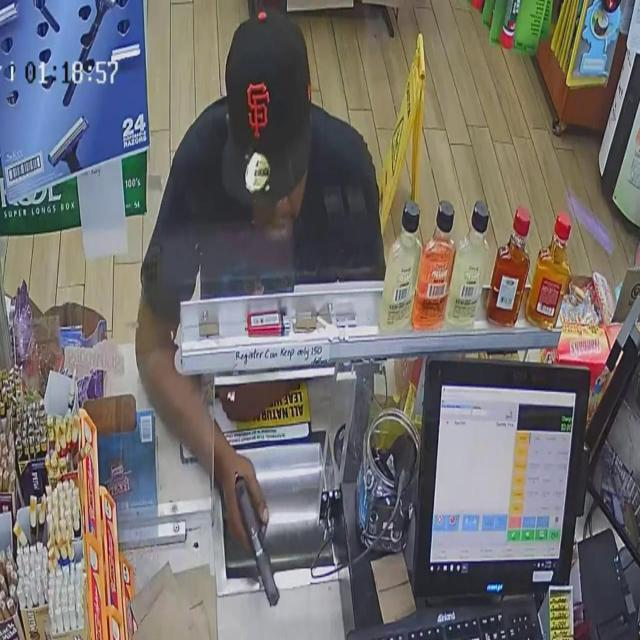pistol: (232, 470, 282, 608)
